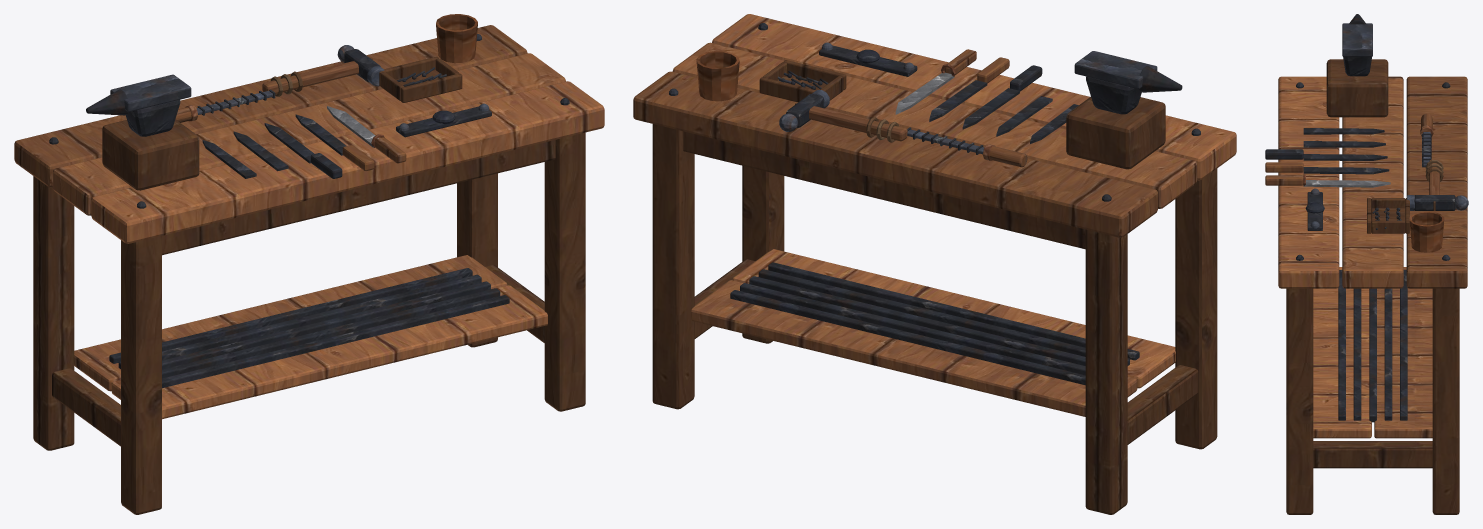
Rendered from ef_apprentice_bench.glb.
3 views of the same model, side by side, from view 1: azimuth 30°, elevation 25°; view 2: azimuth 150°, elevation 25°; view 3: azimuth 270°, elevation 25° (orthographic). The views are drawn at different scales.
Parts seen in each view (by area): view 1: model; view 2: model; view 3: model.
Part boxes in pixels (left/top/right/bottom): model: left=14, top=14, right=604, bottom=514; model: left=633, top=14, right=1236, bottom=514; model: left=1265, top=14, right=1468, bottom=514.
Bounding box in the file's own units: 1.2 × 0.928 × 0.5287.
11 materials, 11 textured.
